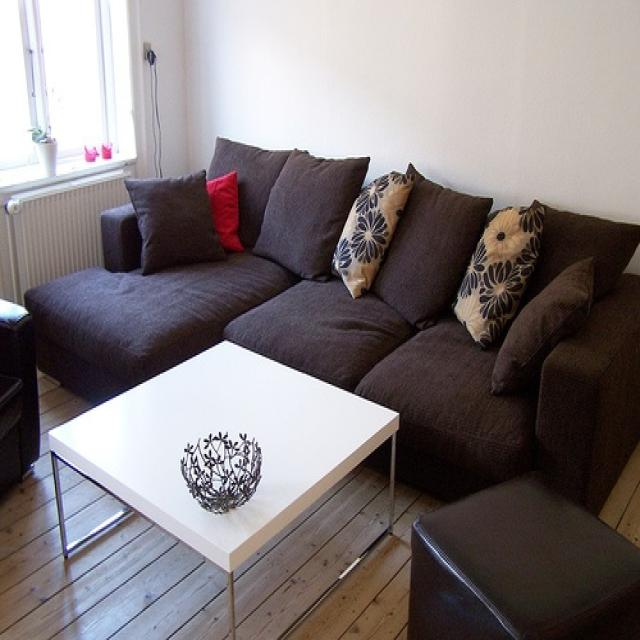chair: (0, 295, 40, 507)
sofa: (26, 138, 638, 519)
